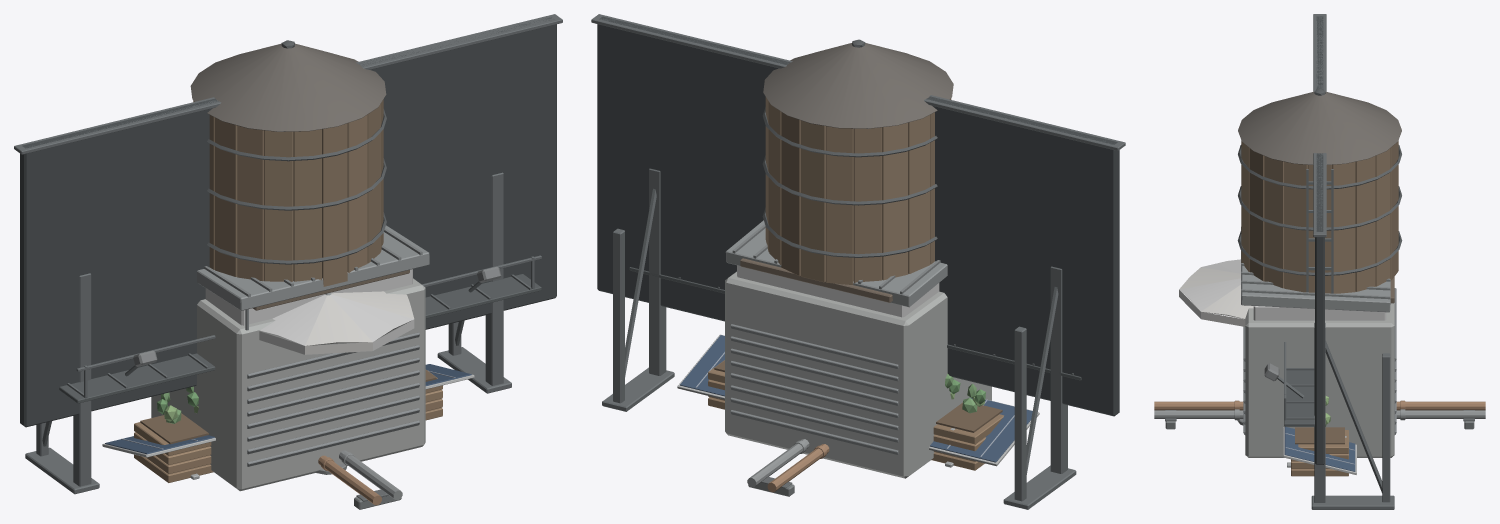
Rendered from wave3_telhado.glb.
The picture shows the model from 3 angles, left to right: view 1: azimuth 30°, elevation 25°; view 2: azimuth 150°, elevation 25°; view 3: azimuth 270°, elevation 25°; orthographic projection. The views are drawn at different scales.
Parts seen in each view (by area): view 1: billboard_frame, water_tank, cooling_tower, roof_garden, roof_shed, pipe_run, solar_row; view 2: billboard_frame, water_tank, cooling_tower, roof_shed, roof_garden, solar_row, pipe_run; view 3: water_tank, cooling_tower, billboard_frame, roof_garden, roof_shed, pipe_run, solar_row.
Part boxes in pixels (x1,y1,x2,y2): billboard_frame: (14,14,562,494); water_tank: (190,40,409,310); cooling_tower: (151,278,425,491); roof_garden: (134,291,442,482); roof_shed: (197,225,429,325); pipe_run: (318,450,402,509); solar_row: (102,364,474,479); billboard_frame: (591,14,1125,509); water_tank: (740,39,953,302); cooling_tower: (725,271,991,478); roof_shed: (725,220,947,317); roof_garden: (708,360,1003,470); solar_row: (677,334,1039,467); pipe_run: (747,439,829,496); water_tank: (1237,89,1402,303); cooling_tower: (1243,288,1396,457); billboard_frame: (1264,14,1394,509); roof_garden: (1179,259,1348,476); roof_shed: (1241,227,1390,320); pipe_run: (1154,400,1485,429); solar_row: (1283,426,1356,474).
Size of the model in its own units: 6.3 by 4.43 by 4.
